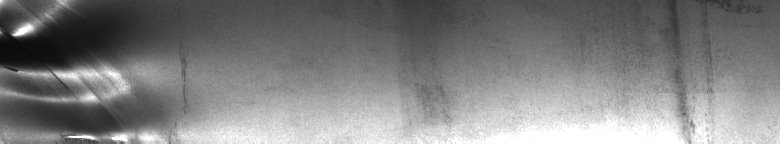ke: (4, 4, 188, 136)
